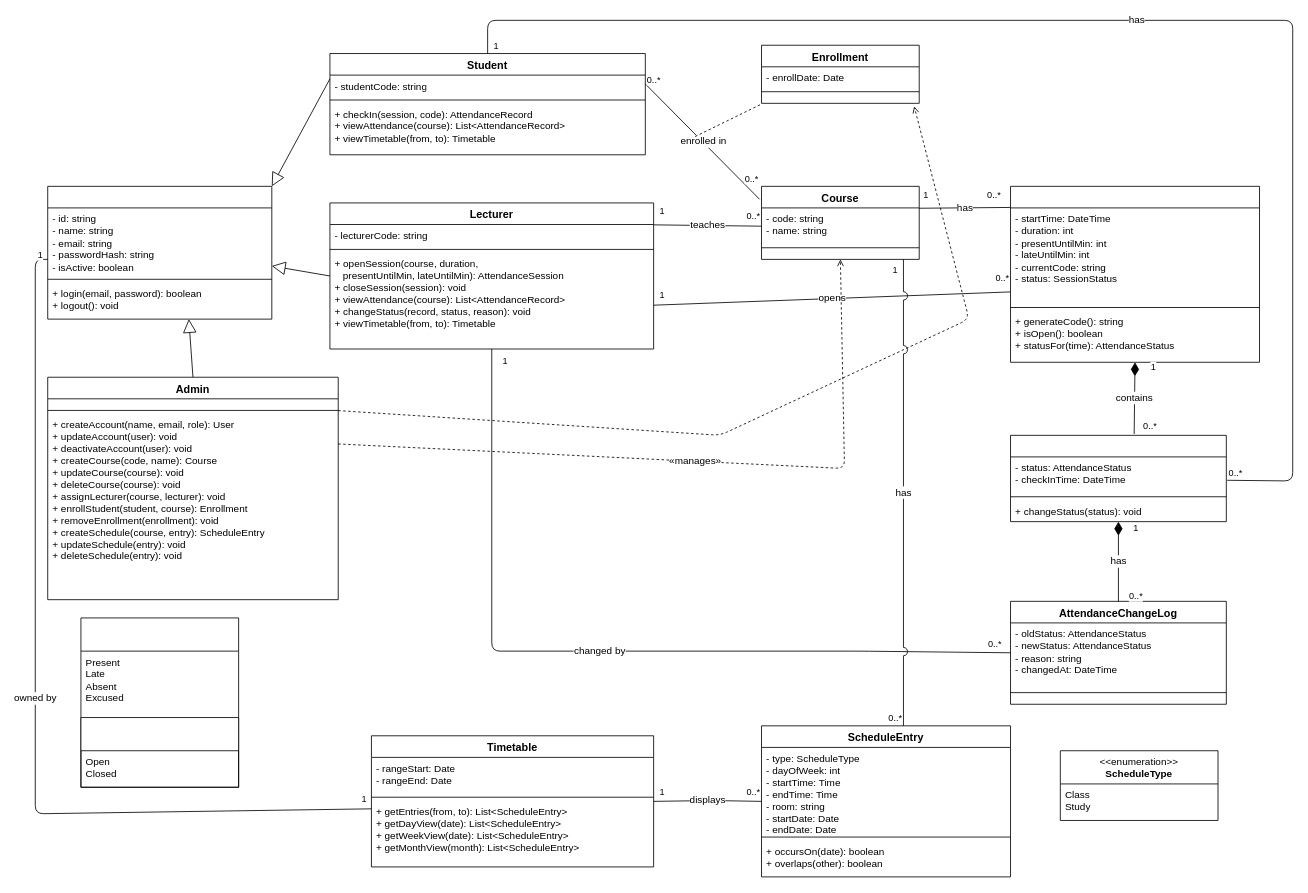
Image size: 1308x893. Some labels were removed from this diagram. Each missing label, with the box of its shape:
<<enumeration>> AttendanceStatus: (80, 617, 239, 787)
<<enumeration>> SessionStatus: (80, 717, 239, 787)
AttendanceRecord: (1010, 435, 1226, 522)
AttendanceSession: (1010, 186, 1260, 362)
User: (47, 186, 272, 319)
